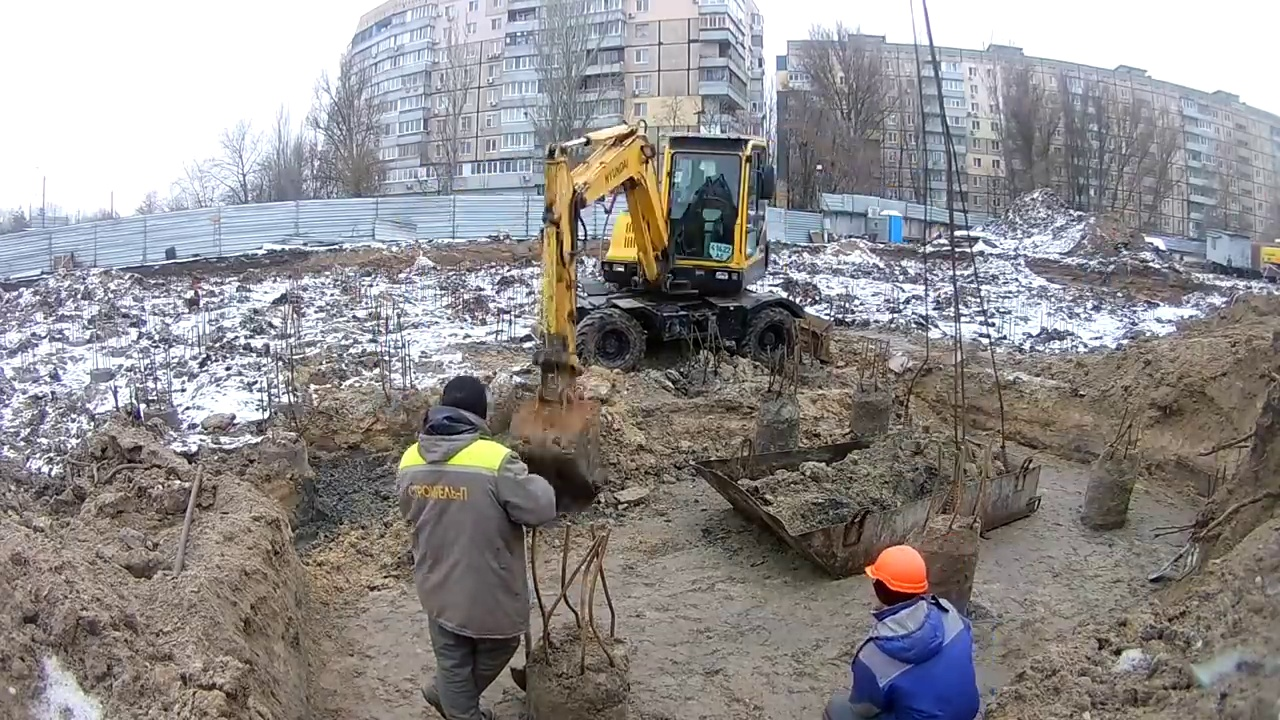helmet: (865, 543, 934, 597)
helmet-off: (438, 372, 488, 437)
helmet-on: (864, 544, 933, 630)
person: (392, 369, 560, 715), (826, 540, 980, 720)
